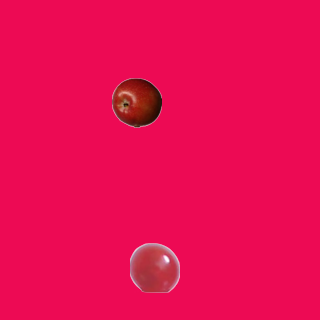Apple Braeburn: (111, 77, 161, 127)
Redcurrant: (129, 242, 179, 292)
